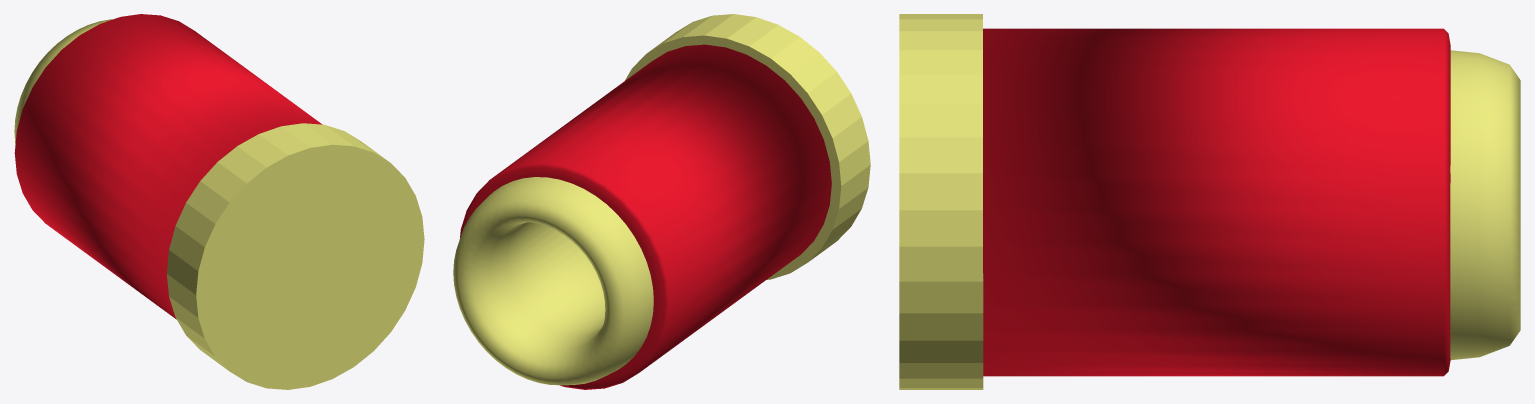
File: Contact2Capacitor.gltf
3 views of the same model, side by side, from view 1: azimuth 30°, elevation 25°; view 2: azimuth 150°, elevation 25°; view 3: azimuth 270°, elevation 25° (orthographic). The views are drawn at different scales.
Parts seen in each view (by area): view 1: Основа контакта 2.001; view 2: Основа контакта 2.001; view 3: Основа контакта 2.001.
Part boxes in pixels (x1,y1,x2,y2): Основа контакта 2.001: (14, 14, 424, 389); Основа контакта 2.001: (453, 14, 870, 389); Основа контакта 2.001: (899, 14, 1520, 389).
Bounding box in the file's own units: 0.1984 × 0.1984 × 0.3277.
